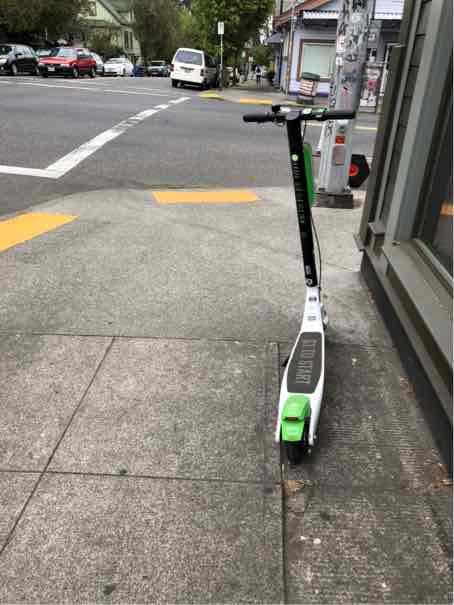scooter: (229, 104, 356, 456)
